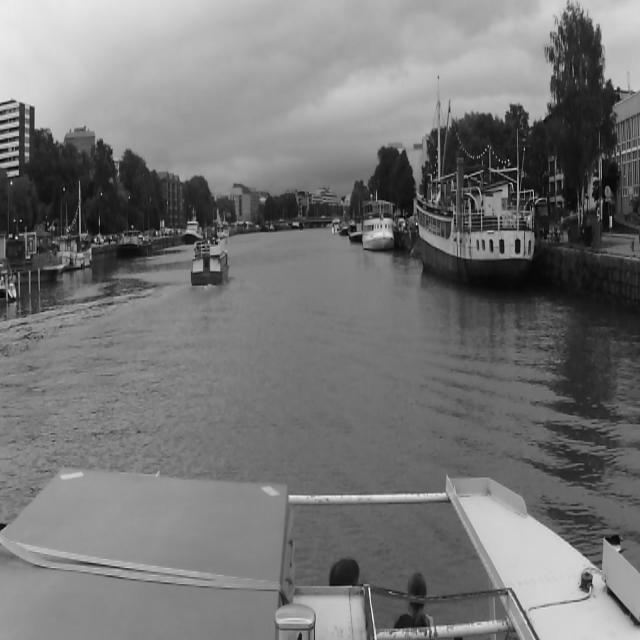ship: (417, 181, 535, 271), (0, 231, 64, 280), (361, 201, 395, 251), (192, 239, 226, 287), (180, 203, 206, 247), (62, 235, 92, 270), (120, 232, 152, 255), (217, 212, 229, 238), (351, 221, 360, 241), (332, 218, 341, 235), (269, 220, 275, 231), (266, 220, 270, 231)
